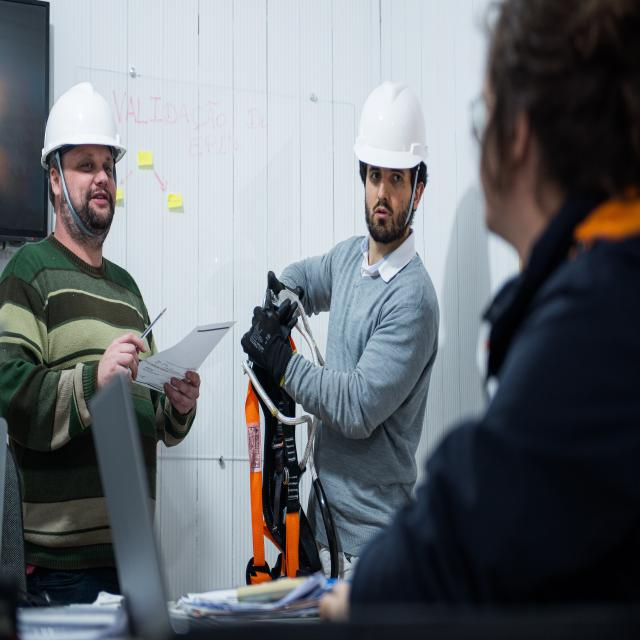capacete: (40, 80, 128, 174), (351, 78, 430, 173)
luva: (240, 304, 294, 392)
